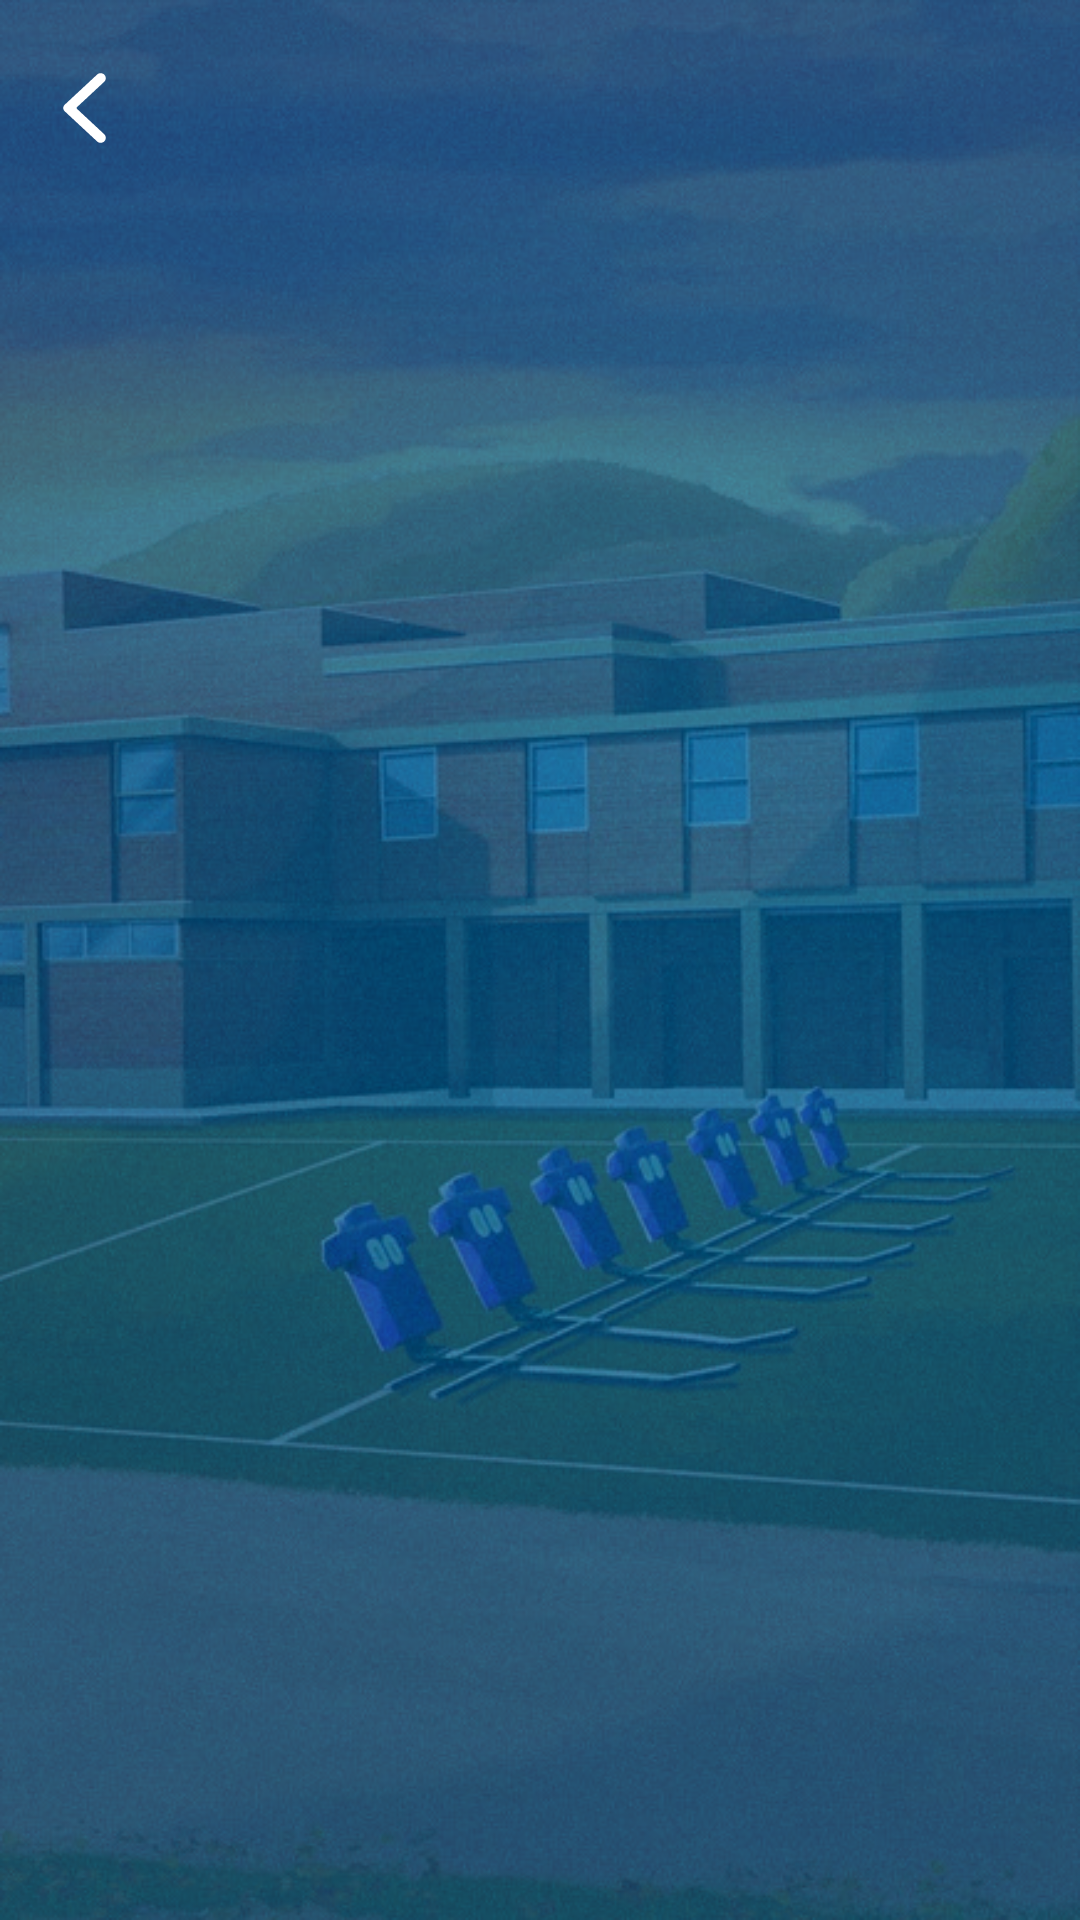

Point at icon controls on the screen. Image size 1080*1920, points as point (x, y).
back: point (84, 108)
